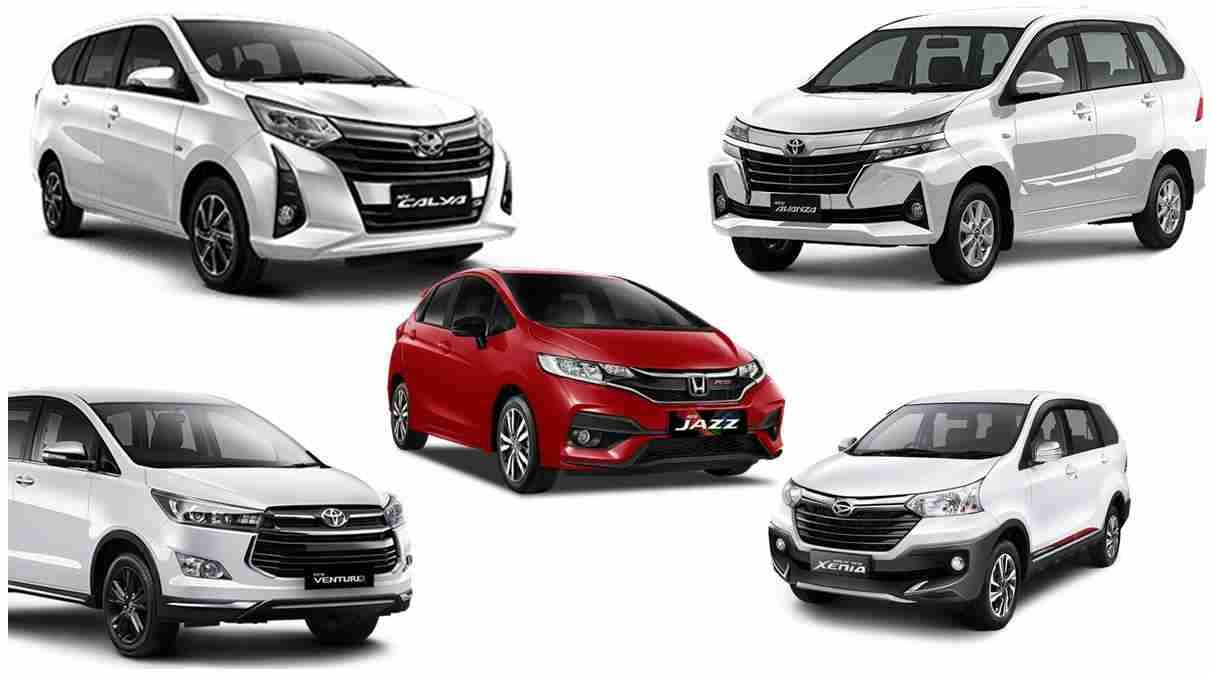mobil: (709, 8, 1211, 262), (34, 13, 504, 275), (8, 388, 415, 661), (772, 383, 1151, 645), (391, 263, 794, 503)
